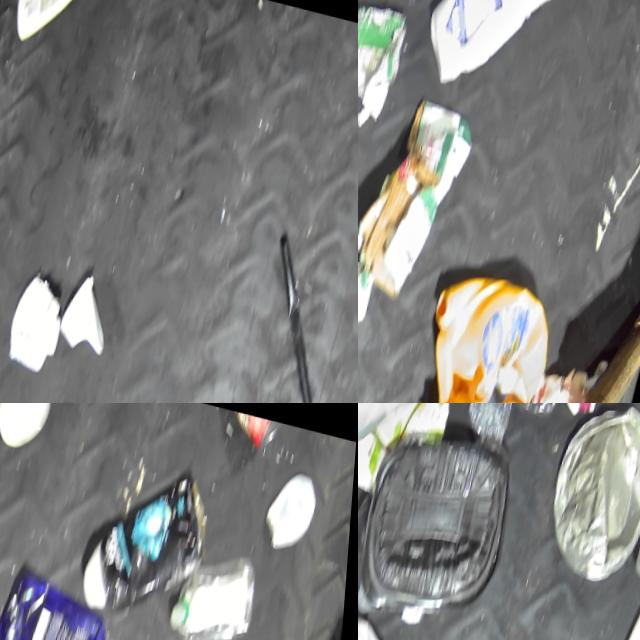non_white_jug: (419, 261, 569, 403), (0, 561, 160, 640)
plastic_bottle: (166, 533, 267, 640), (7, 0, 101, 52), (460, 403, 531, 447)
